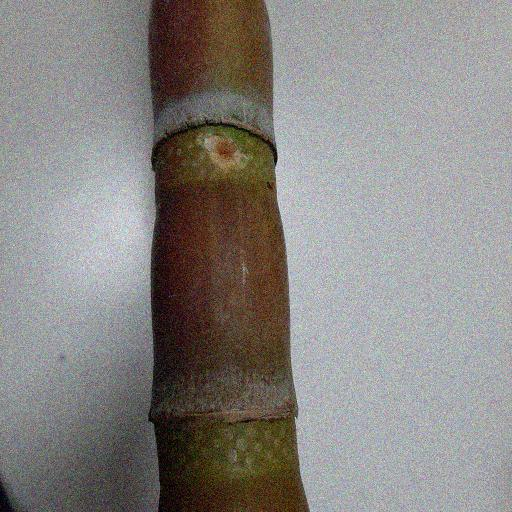Damage_Bud: (202, 132, 246, 171)
